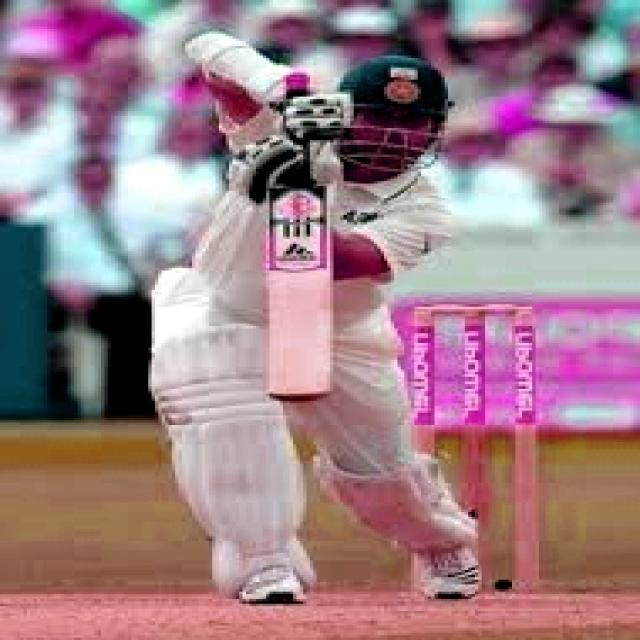bat: (264, 185, 344, 406), (255, 378, 329, 414)
